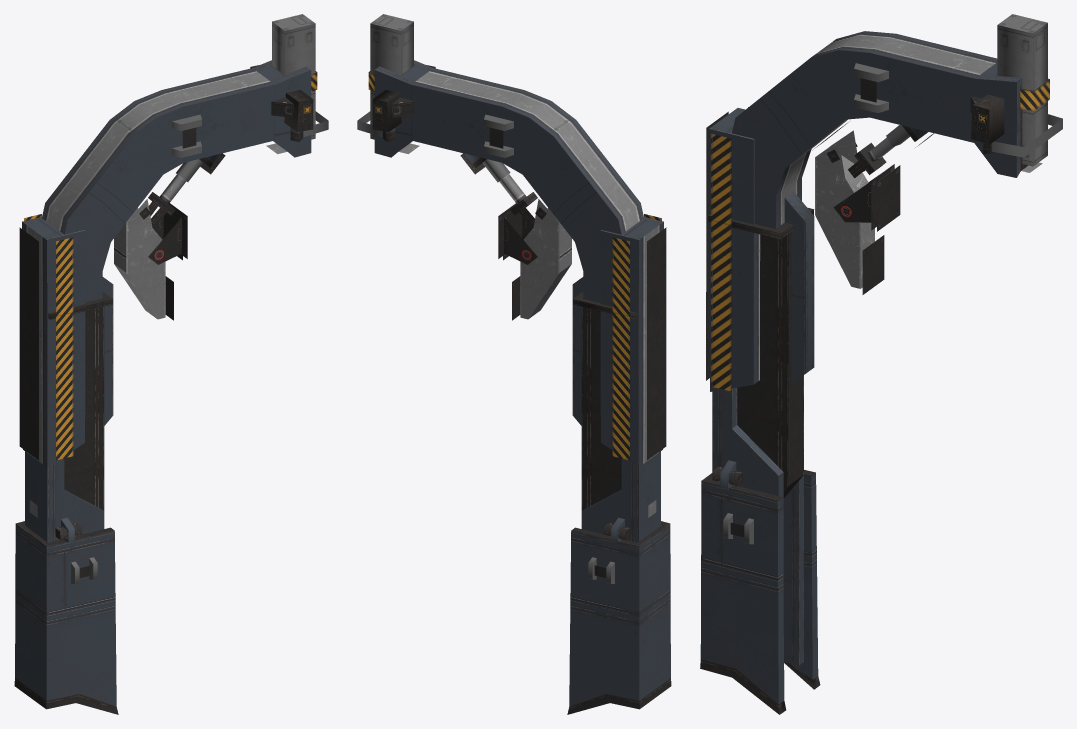
File: Crane_2B_L3.fbx
3 views of the same model, side by side, from view 1: azimuth 30°, elevation 25°; view 2: azimuth 150°, elevation 25°; view 3: azimuth 330°, elevation 25° (orthographic). The views are drawn at different scales.
Visible parts, largest first — view 1: Crane_2B_L3; view 2: Crane_2B_L3; view 3: Crane_2B_L3.
Part boxes in pixels (<box>): Crane_2B_L3: <box>14,14,328,714</box>; Crane_2B_L3: <box>357,14,671,714</box>; Crane_2B_L3: <box>700,14,1062,714</box>.
Bounding box in the file's own units: 346 × 741 × 105.
